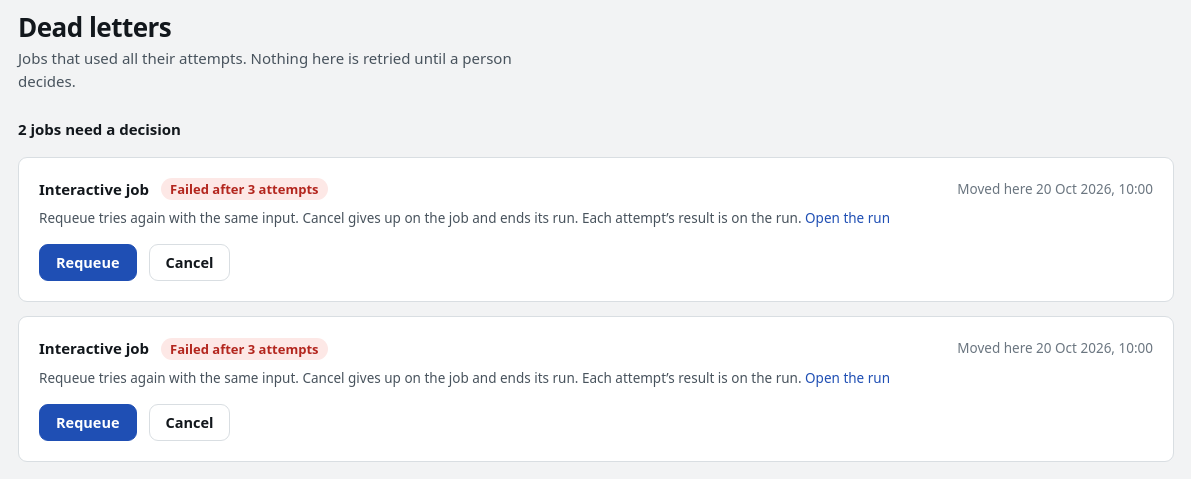
Test: the dead-letters screen, driven › reloads the list when the job is gone (404) and says so
The image size is (1191, 479).
Click the 1st button "Requeue" at x=88, y=263, box [39,244,136,281]
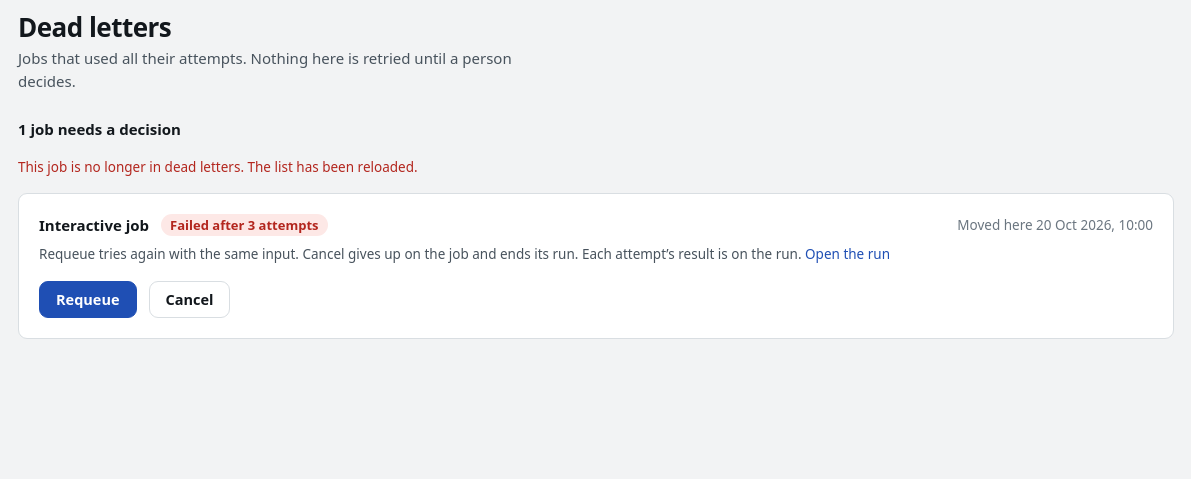
Now the message "This job is no longer in dead letters. The list has been reloaded." is shown, box [18,158,418,176]
